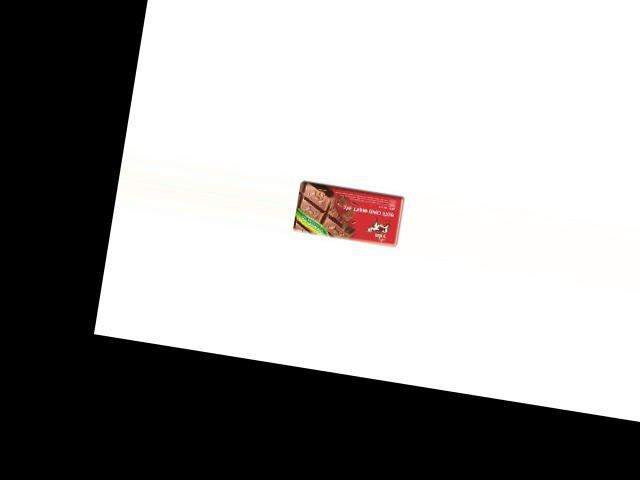chocolate: (292, 177, 407, 249)
